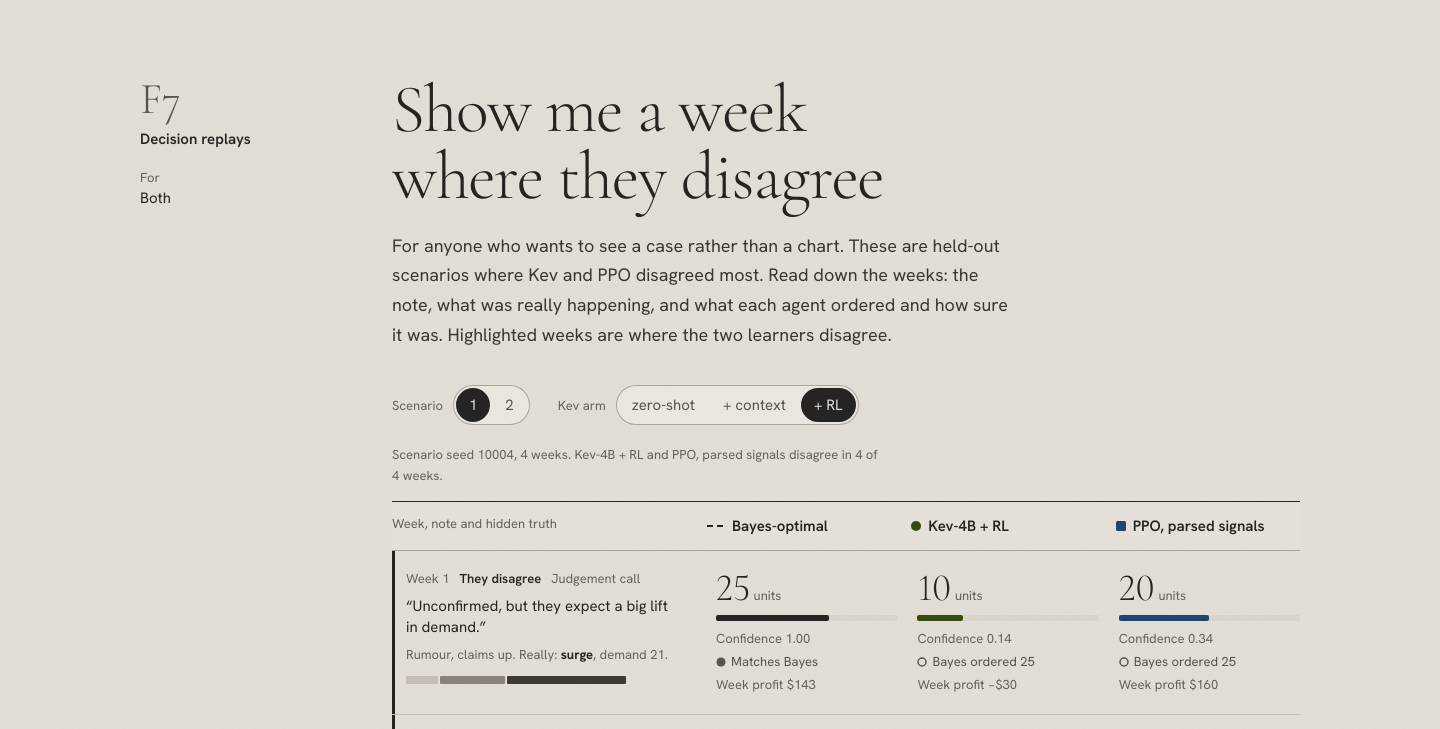
it: the report, from the sample JSON › replays a scenario side by side (F7)
The image size is (1440, 729).
(page scrolled)
Click the radio button labelled "2" at (510, 405), box x1=492 y1=388 x2=527 y2=422
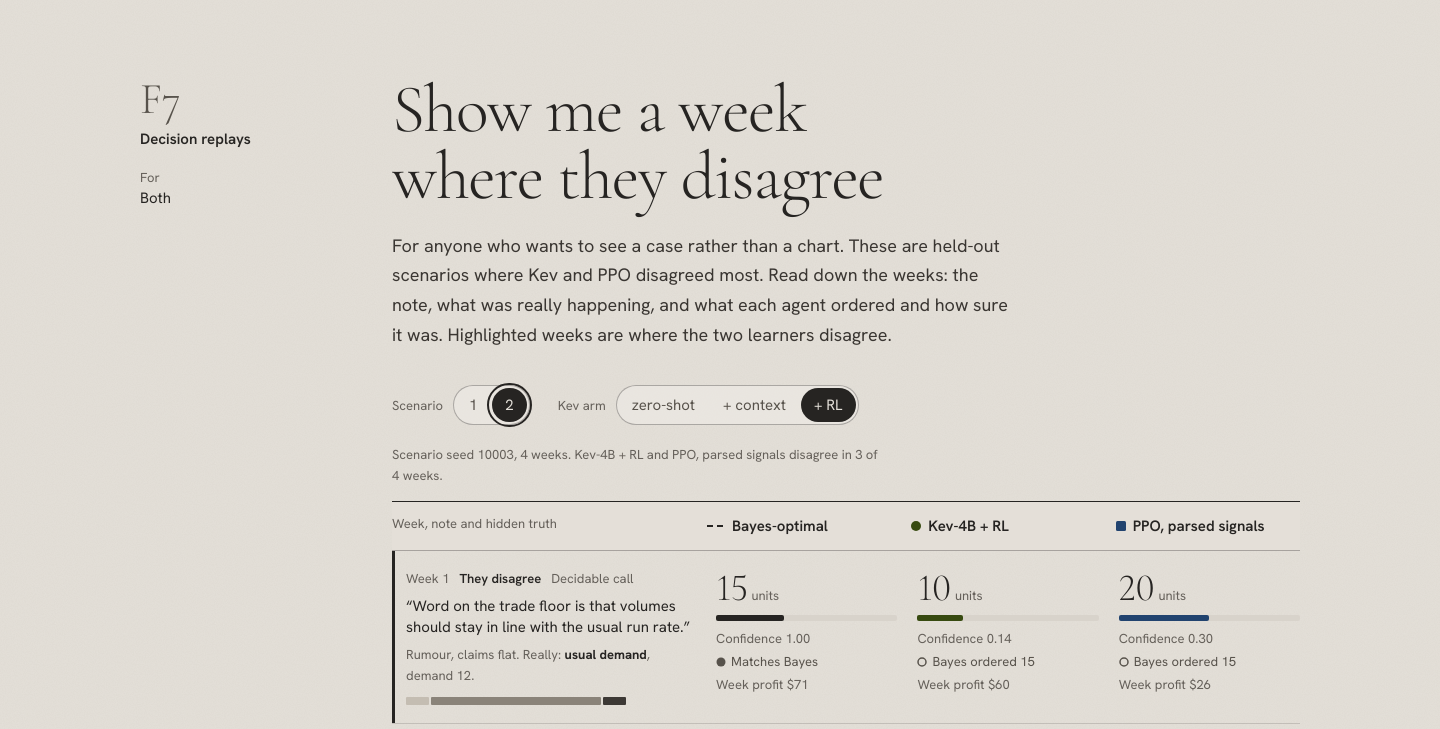
Click the radio button labelled "zero-shot" at (663, 405), box x1=619 y1=388 x2=708 y2=422
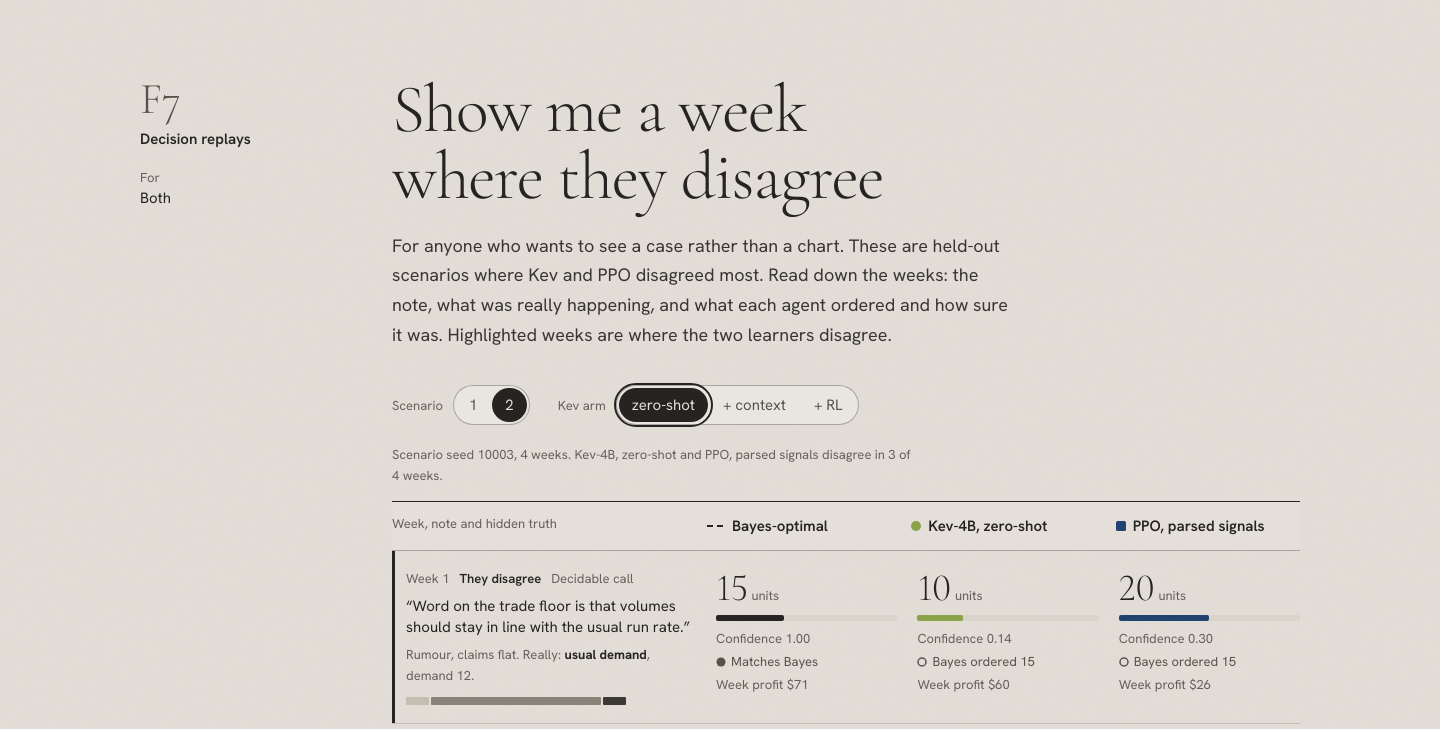
Check: the column heading "Kev-4B, zero-shot" is shown, box x1=911 y1=516 x2=1047 y2=536
